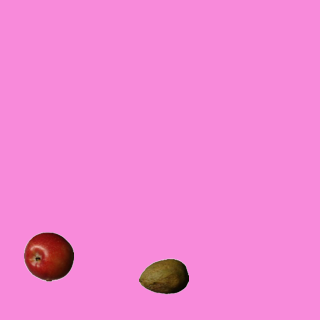Apple Braeburn: (23, 231, 73, 281)
Papaya: (138, 251, 188, 301)
